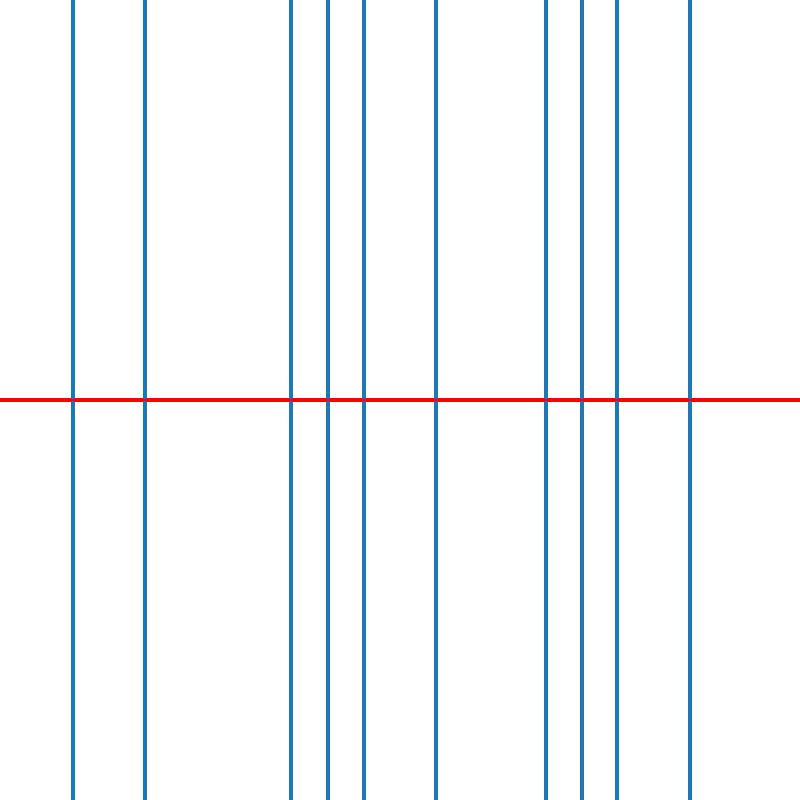root: (432, 396, 440, 404), (541, 396, 549, 404), (141, 396, 149, 404), (578, 396, 585, 404), (287, 396, 294, 404), (360, 396, 367, 404), (687, 396, 694, 404), (69, 396, 76, 404), (614, 396, 621, 404), (323, 396, 330, 404)
